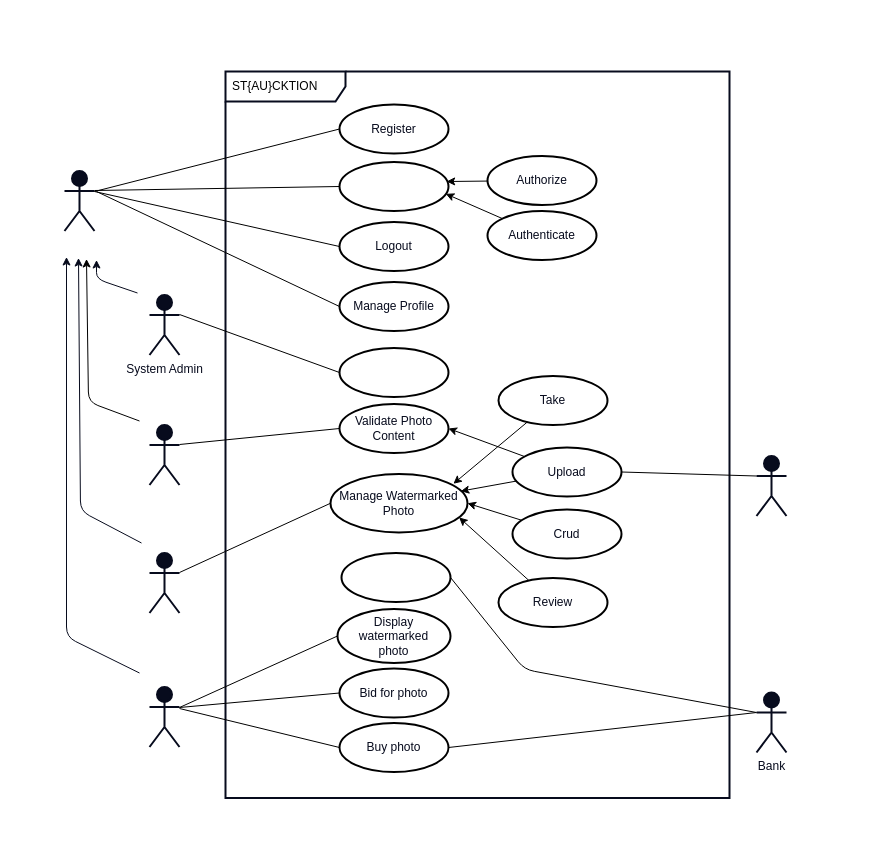
Image size: 873x868. Some labels were removed from this diagram. Each missing label, with the box of its shape:
Cash Out: (340, 552, 451, 602)
Google Api: (755, 454, 787, 516)
Login: (338, 160, 449, 212)
Manage Users: (338, 346, 449, 398)
Registered User: (148, 552, 180, 614)
Stock Firm: (148, 686, 180, 748)
User: (63, 170, 95, 232)
Validator: (148, 424, 180, 486)
